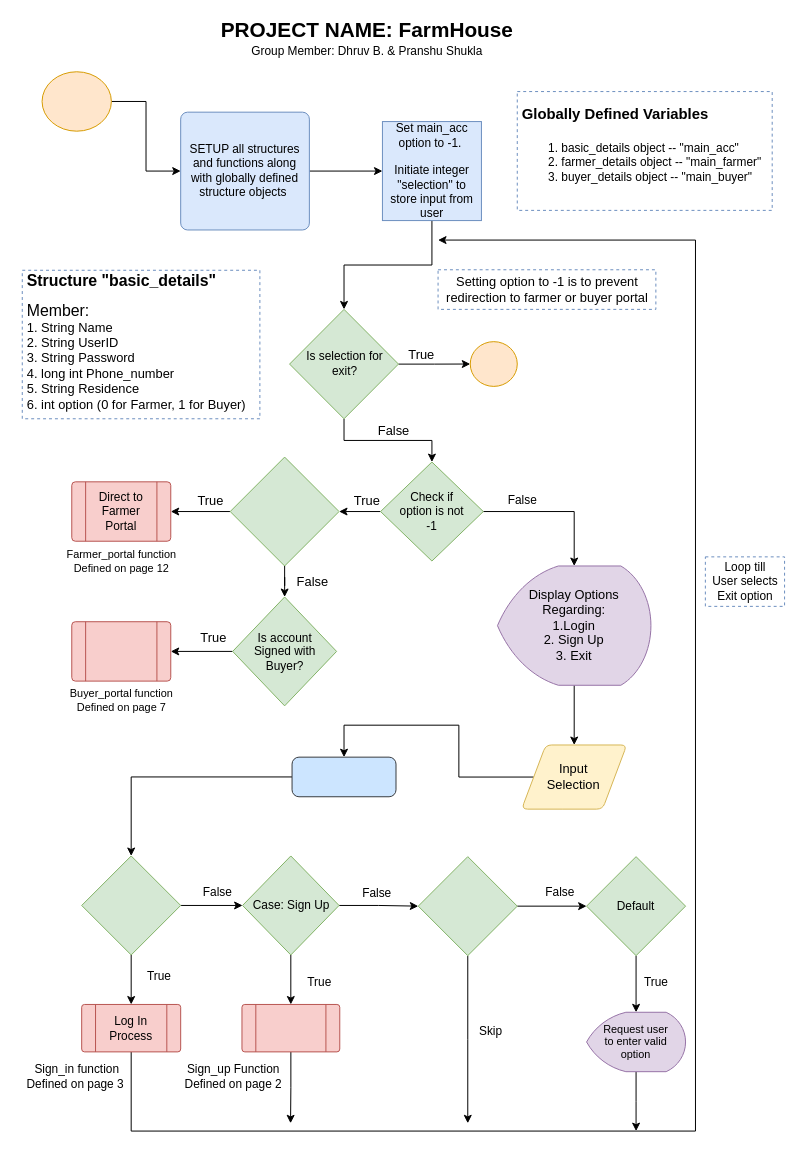
Some shapes in this 802 by 1156 pixel diagram are drawn without their labels. The shapes that lost their labels are listed below. From the top down, each one's centre as x and y in pixels, then its label:
At point 76,101: "Program Start".
At point 493,363: "END".
At point 284,511: "Is account Signed with Farmer?".
At point 121,651: "Direct to Buyer Portal".
At point 343,776: "Switch Selection".
At point 131,905: "Case: Log In".
At point 467,906: "Case: Exit".
At point 290,1027: "Sign Up Process".
